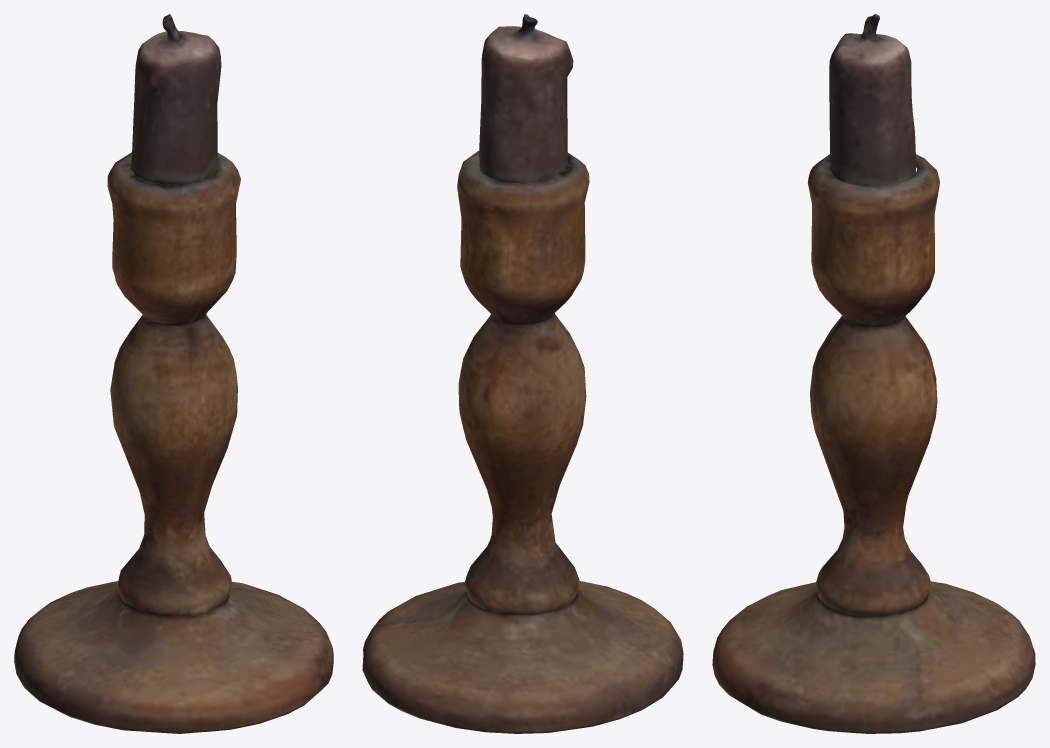
Rendered from aca-candle.glb.
The picture shows the model from 3 angles, left to right: view 1: azimuth 30°, elevation 25°; view 2: azimuth 150°, elevation 25°; view 3: azimuth 270°, elevation 25°; orthographic projection.
Visible parts, largest first — view 1: wooden_candlestick; view 2: wooden_candlestick; view 3: wooden_candlestick.
Part boxes in pixels (box(x1,y1,x2,y2)): wooden_candlestick: box(14, 14, 333, 733); wooden_candlestick: box(362, 14, 683, 733); wooden_candlestick: box(712, 14, 1035, 733).
Bounding box in the file's own units: 0.0972 × 0.2196 × 0.0986.
1 material, 1 textured.
